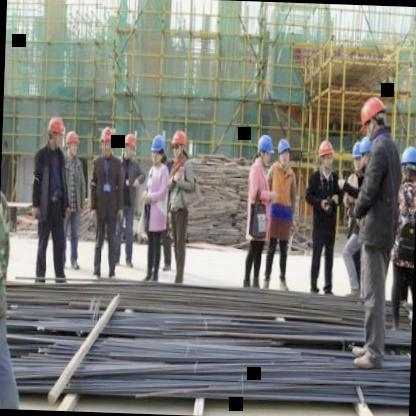helmet: (355, 96, 388, 140), (45, 113, 67, 151), (254, 131, 276, 168), (147, 129, 168, 165), (316, 138, 337, 172), (97, 124, 116, 161), (400, 141, 416, 184), (63, 126, 81, 164), (169, 126, 188, 160), (351, 137, 367, 177), (275, 136, 294, 168), (121, 129, 139, 162), (359, 134, 375, 168)
